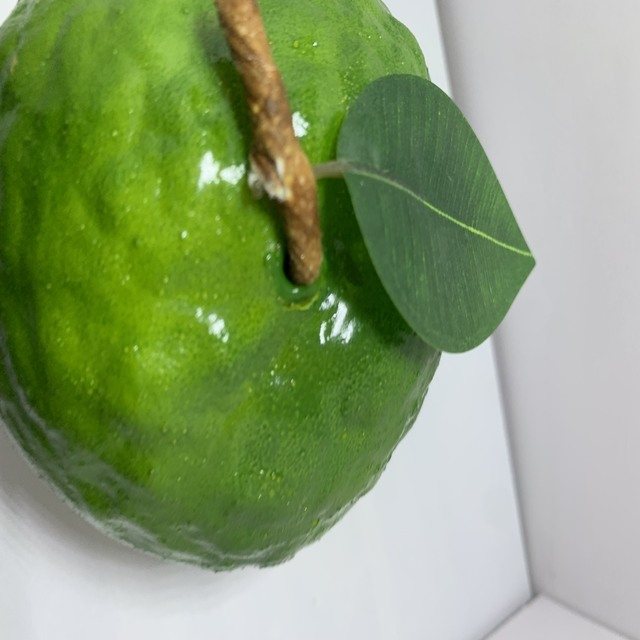Cam xanh: (0, 0, 456, 582)
